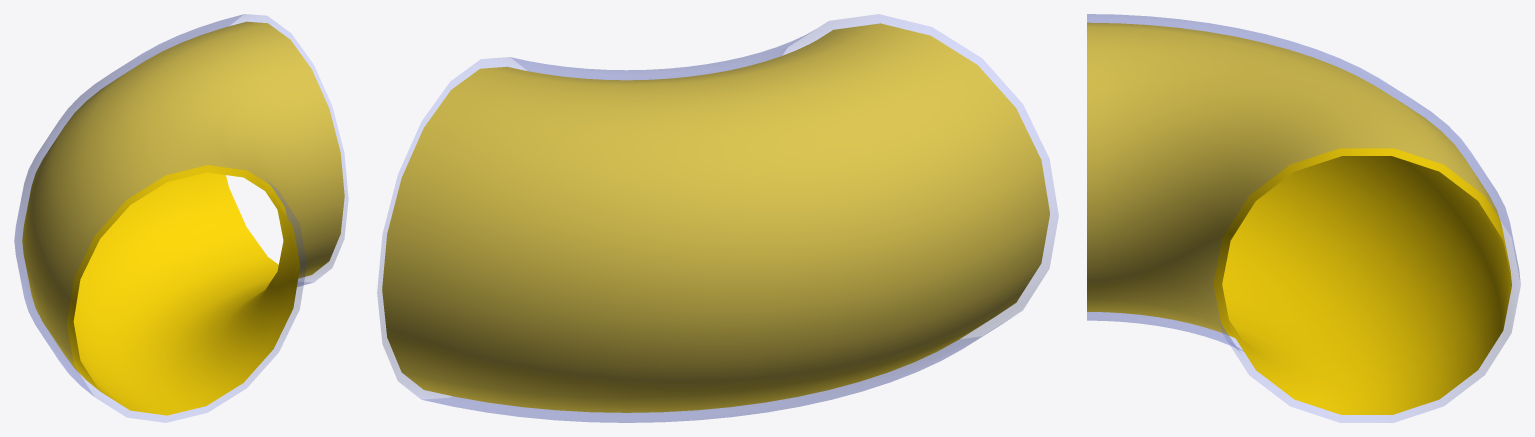
The model's file is 冷冻供-弯头.glb.
The picture shows the model from 3 angles, left to right: view 1: azimuth 30°, elevation 25°; view 2: azimuth 150°, elevation 25°; view 3: azimuth 270°, elevation 25°; orthographic projection. The views are drawn at different scales.
Visible parts, largest first — view 1: 贴图, Box001; view 2: Box001, 贴图; view 3: 贴图, Box001.
Part boxes in pixels (bbox=[...]): 贴图: bbox=[22, 21, 344, 415]; Box001: bbox=[14, 14, 348, 422]; Box001: bbox=[377, 14, 1058, 422]; 贴图: bbox=[382, 23, 1049, 412]; 贴图: bbox=[1087, 22, 1511, 414]; Box001: bbox=[1087, 14, 1520, 422].
Size of the model in its own units: 4.93 by 3.45 by 4.93.
